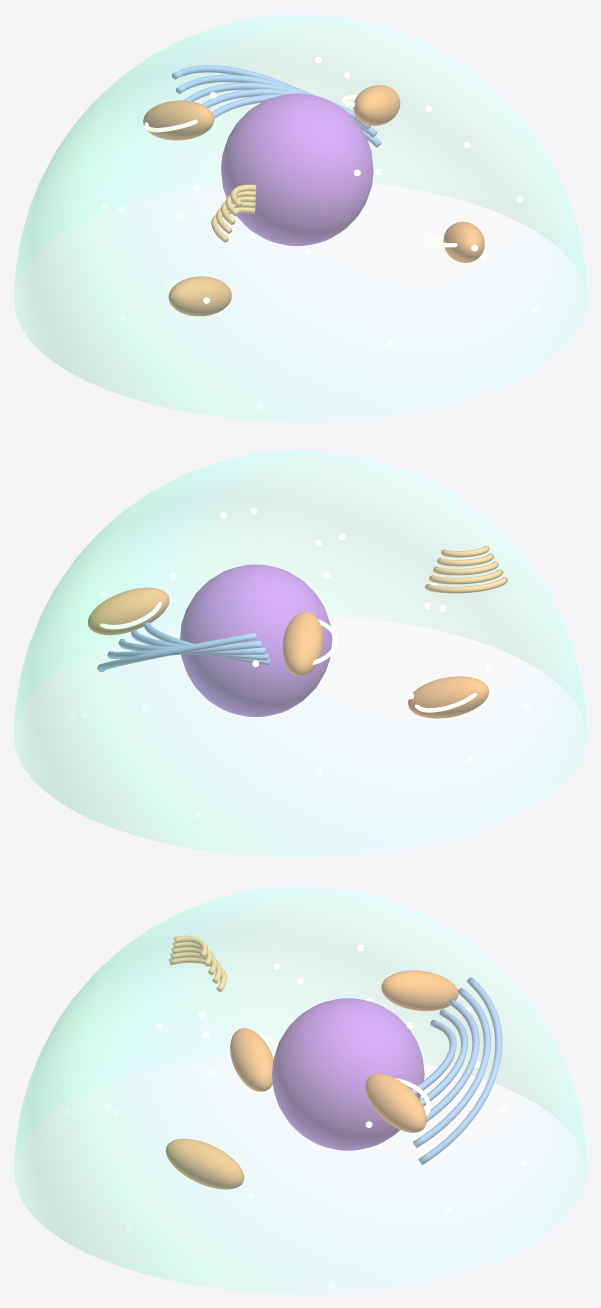
The model's file is E16_Giant_Cell_Dome.glb.
The picture shows the model from 3 angles, top to bottom: view 1: azimuth 30°, elevation 25°; view 2: azimuth 150°, elevation 25°; view 3: azimuth 270°, elevation 25°; orthographic projection.
Visible parts, largest first — view 1: E16_Giant_Cell_Dome_Mesh; view 2: E16_Giant_Cell_Dome_Mesh; view 3: E16_Giant_Cell_Dome_Mesh.
Part boxes in pixels (x1,y1,x2,y2): E16_Giant_Cell_Dome_Mesh: (14,14,586,421); E16_Giant_Cell_Dome_Mesh: (14,450,586,857); E16_Giant_Cell_Dome_Mesh: (14,886,586,1293).
Size of the model in its own units: 12 by 6.45 by 12.
